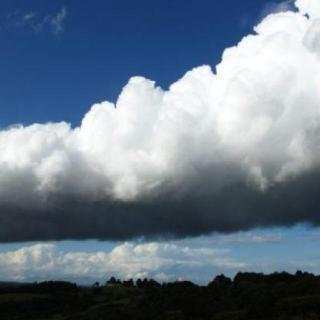Cumulus: (0, 0, 320, 276)
